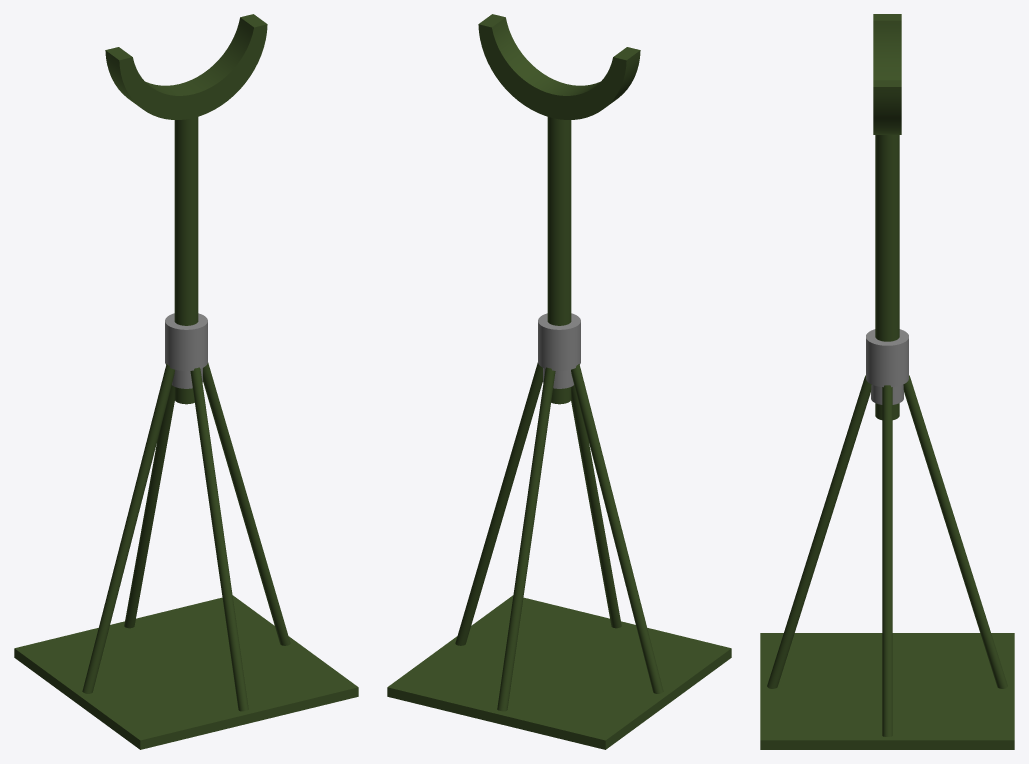
3 renders of one model, left to right at view 1: azimuth 30°, elevation 25°; view 2: azimuth 150°, elevation 25°; view 3: azimuth 270°, elevation 25°, orthographic.
Visible parts, largest first — view 1: cradle_stand; view 2: cradle_stand; view 3: cradle_stand.
Part boxes in pixels (x1,y1,x2,y2): cradle_stand: (14, 14, 358, 749); cradle_stand: (387, 14, 731, 749); cradle_stand: (760, 14, 1014, 749).
Size of the model in its own units: 0.8922 by 2.5 by 0.8922.
